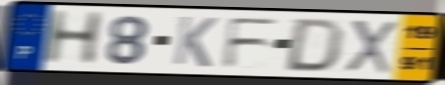8: (106, 14, 150, 66)
D: (281, 17, 347, 74)
F: (220, 16, 283, 70)
H: (39, 9, 108, 67)
K: (171, 14, 220, 69)
X: (343, 18, 398, 75)
